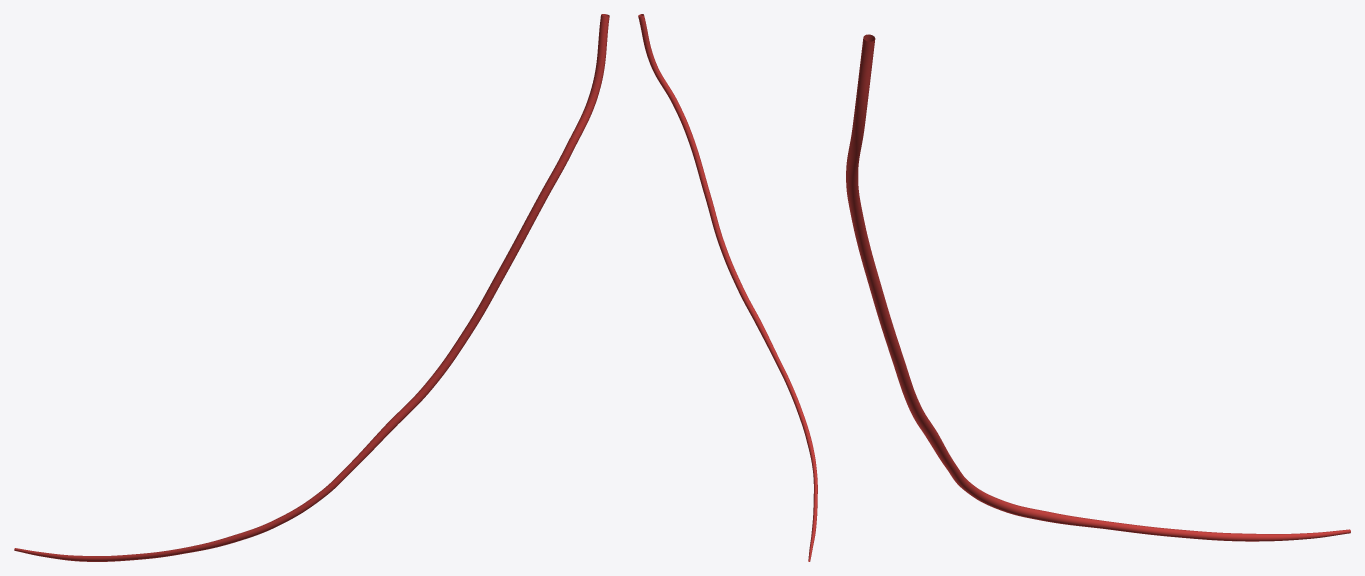
The picture shows the model from 3 angles, left to right: view 1: azimuth 30°, elevation 25°; view 2: azimuth 150°, elevation 25°; view 3: azimuth 270°, elevation 25°; orthographic projection. The views are drawn at different scales.
Parts seen in each view (by area): view 1: 左侧颞浅动脉额支; view 2: 左侧颞浅动脉额支; view 3: 左侧颞浅动脉额支.
Boxes of the visible parts, box(x1,y1,x2,y2) form: 左侧颞浅动脉额支: box(14, 14, 609, 561); 左侧颞浅动脉额支: box(638, 14, 817, 561); 左侧颞浅动脉额支: box(846, 34, 1350, 541).
Size of the model in its own units: 0.049 by 0.0624 by 0.0367.
